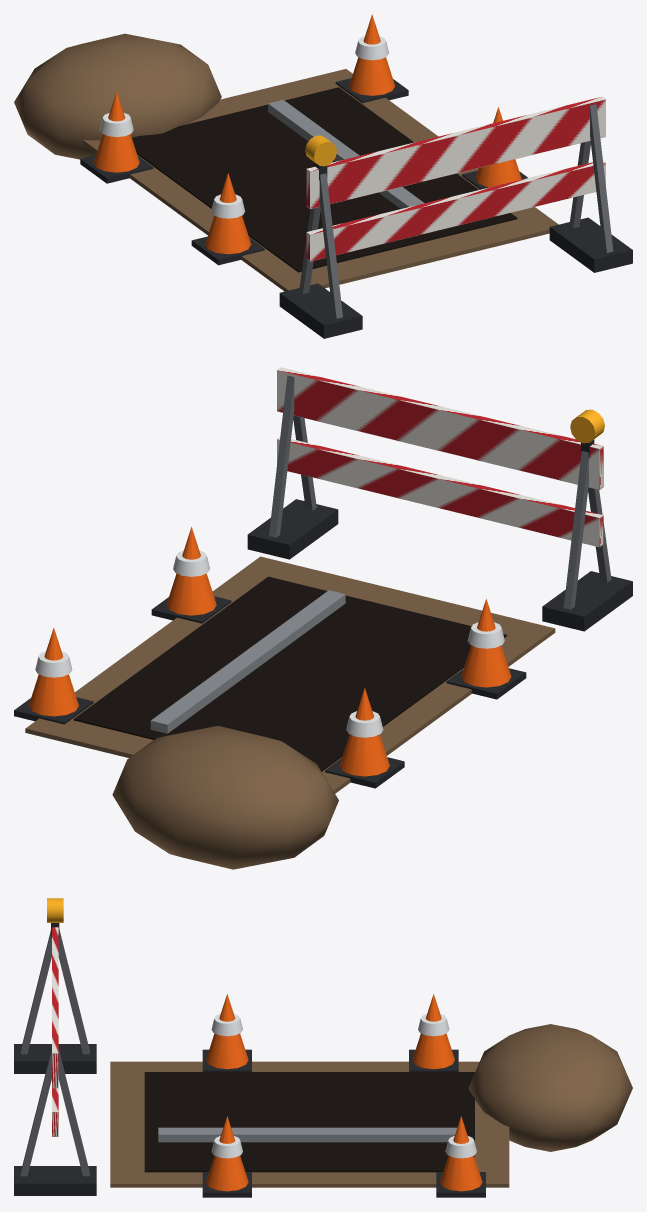
The model's file is roadworks.obj.
3 renders of one model, top to bottom at view 1: azimuth 30°, elevation 25°; view 2: azimuth 150°, elevation 25°; view 3: azimuth 270°, elevation 25°, orthographic. The views are drawn at different scales.
Visible parts, largest first — view 1: part2.nocast, part4, part1.nocast, part5, part6, part9, part12, part3.nocast, part15, part24, part21, part11 (+11 smaller); view 2: part2.nocast, part4, part1.nocast, part5, part6, part3.nocast, part12, part9, part15, part21, part24, part18 (+13 smaller); view 3: part2.nocast, part4, part1.nocast, part3.nocast, part12, part9, part24, part18, part15, part21, part5, part10 (+12 smaller).
Part boxes in pixels (x1,y1,x2,y2): part2.nocast: (132, 87, 517, 272); part4: (14, 33, 221, 159); part1.nocast: (83, 69, 558, 291); part5: (306, 96, 605, 209); part6: (306, 160, 605, 261); part9: (279, 283, 362, 338); part12: (549, 217, 632, 272); part3.nocast: (268, 99, 424, 208); part15: (205, 173, 251, 254); part24: (93, 91, 139, 172); part21: (349, 14, 394, 95); part11: (590, 104, 613, 252); part2.nocast: (73, 576, 506, 771); part4: (112, 726, 338, 869); part1.nocast: (25, 556, 555, 793); part5: (277, 367, 603, 489); part6: (277, 437, 603, 547); part3.nocast: (150, 590, 345, 733); part12: (247, 499, 338, 559); part9: (542, 571, 632, 631); part15: (461, 599, 511, 687); part21: (28, 627, 78, 716); part24: (339, 687, 389, 776); part18: (166, 527, 216, 615); part2.nocast: (144, 1072, 474, 1172); part4: (468, 1024, 632, 1151); part1.nocast: (110, 1061, 509, 1187); part3.nocast: (158, 1127, 456, 1142); part12: (14, 1166, 96, 1195); part9: (14, 1044, 96, 1073); part24: (412, 994, 454, 1069); part18: (206, 1116, 248, 1191); part15: (206, 994, 248, 1069); part21: (440, 1116, 482, 1191); part5: (52, 927, 58, 1088); part10: (58, 1049, 89, 1176).
Size of the model in its own units: 2.52 by 1.67 by 4.5.
9 materials, 1 textured.
